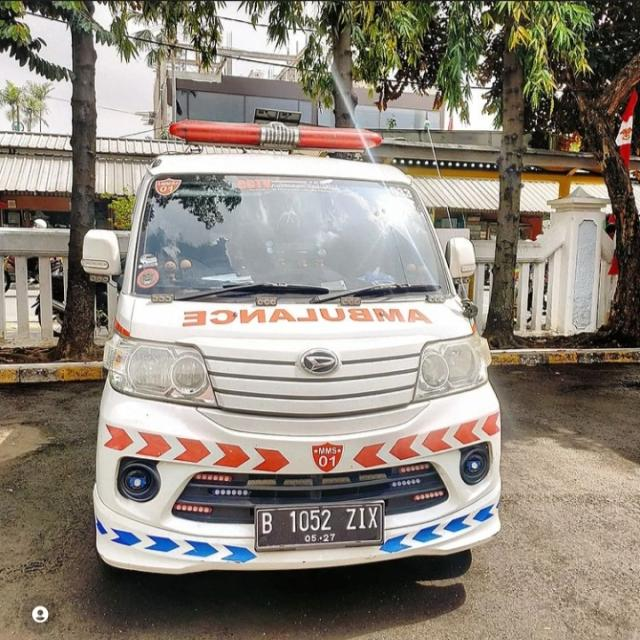emergency-vehicle: (66, 104, 519, 591)
